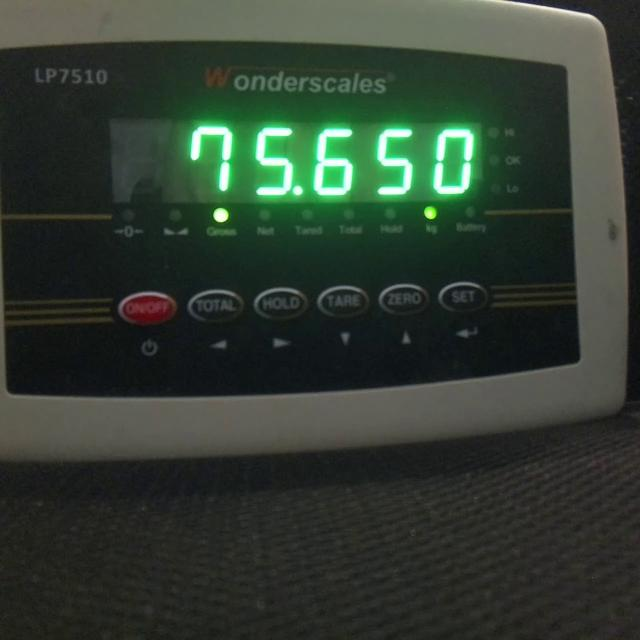.: (291, 184, 304, 196)
0: (434, 128, 475, 194)
5: (254, 125, 296, 196), (375, 127, 414, 195)
6: (313, 127, 354, 196)
7: (190, 124, 232, 191)
